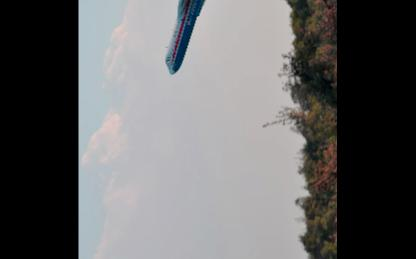B52: (165, 0, 221, 75)
